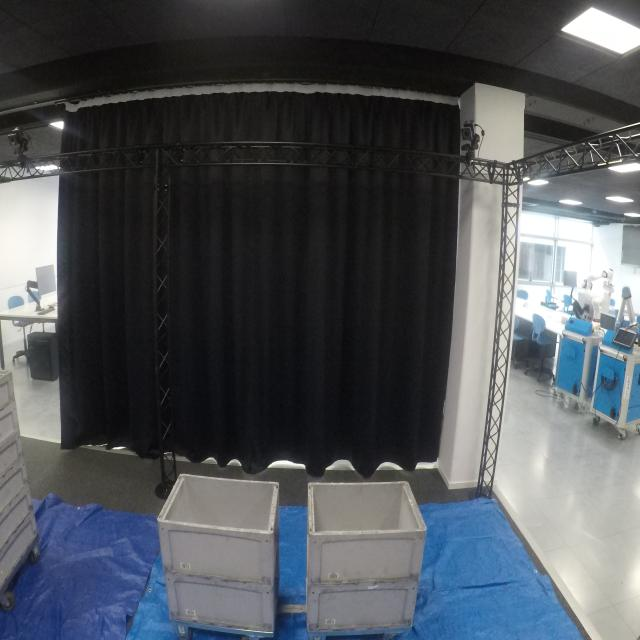Box4G: (158, 470, 280, 588), (305, 479, 428, 590), (168, 572, 282, 636), (303, 580, 423, 632)
